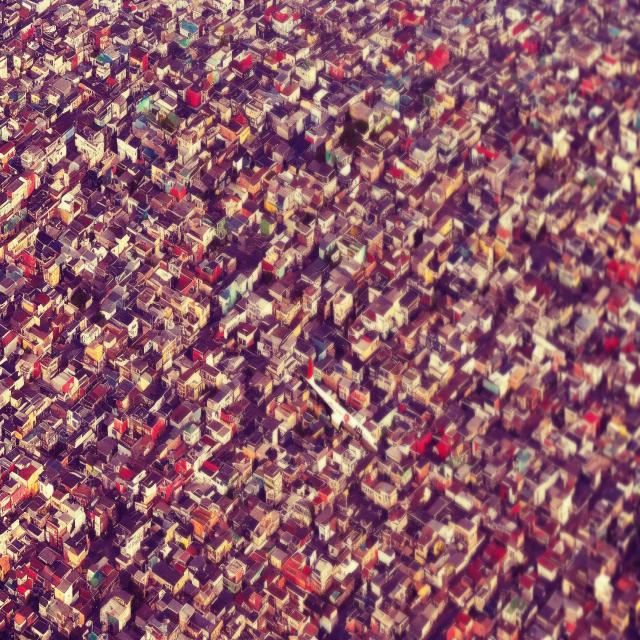airplane: (299, 355, 379, 454)
